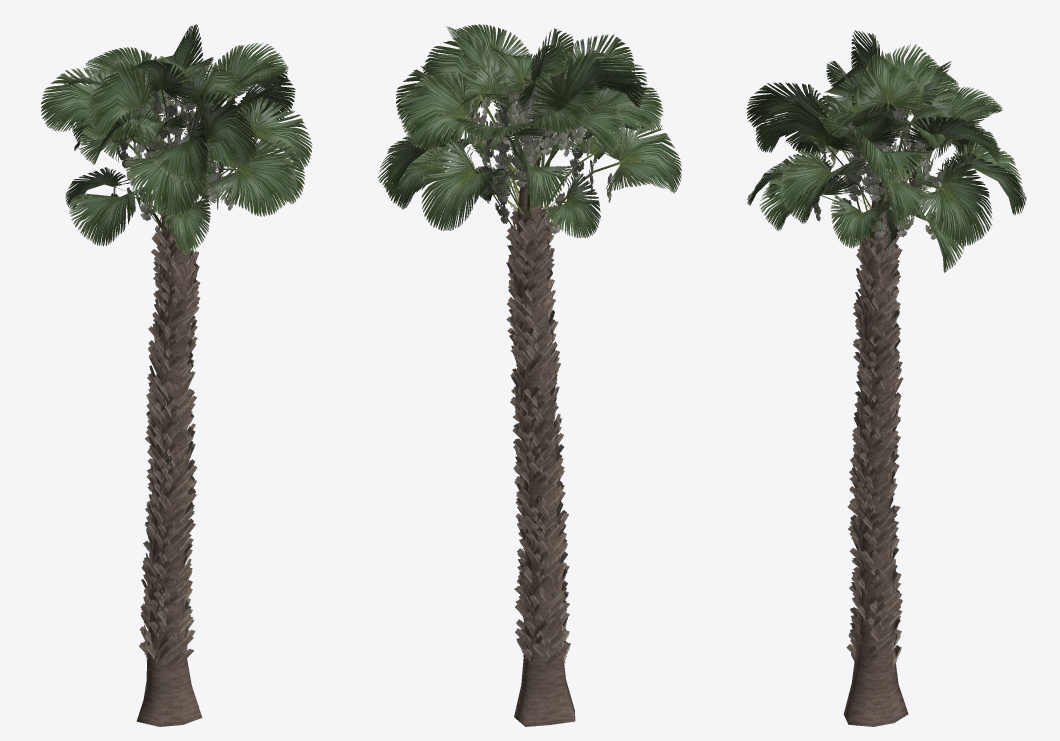
The model's file is Sabal_Mexicana_Spring_Adult.glb.
3 views of the same model, side by side, from view 1: azimuth 30°, elevation 25°; view 2: azimuth 150°, elevation 25°; view 3: azimuth 270°, elevation 25° (orthographic). The views are drawn at different scales.
Parts seen in each view (by area): view 1: Sabal_Mexicana_Spring_Adult__LOD3; view 2: Sabal_Mexicana_Spring_Adult__LOD3; view 3: Sabal_Mexicana_Spring_Adult__LOD3.
Boxes of the visible parts, x1,y1,x2,y2 form: Sabal_Mexicana_Spring_Adult__LOD3: (41, 24, 312, 726); Sabal_Mexicana_Spring_Adult__LOD3: (377, 24, 681, 726); Sabal_Mexicana_Spring_Adult__LOD3: (746, 30, 1026, 726).
Size of the model in its own units: 8.3 by 19.07 by 8.5.
Materials: 3 (3 with a texture image).
